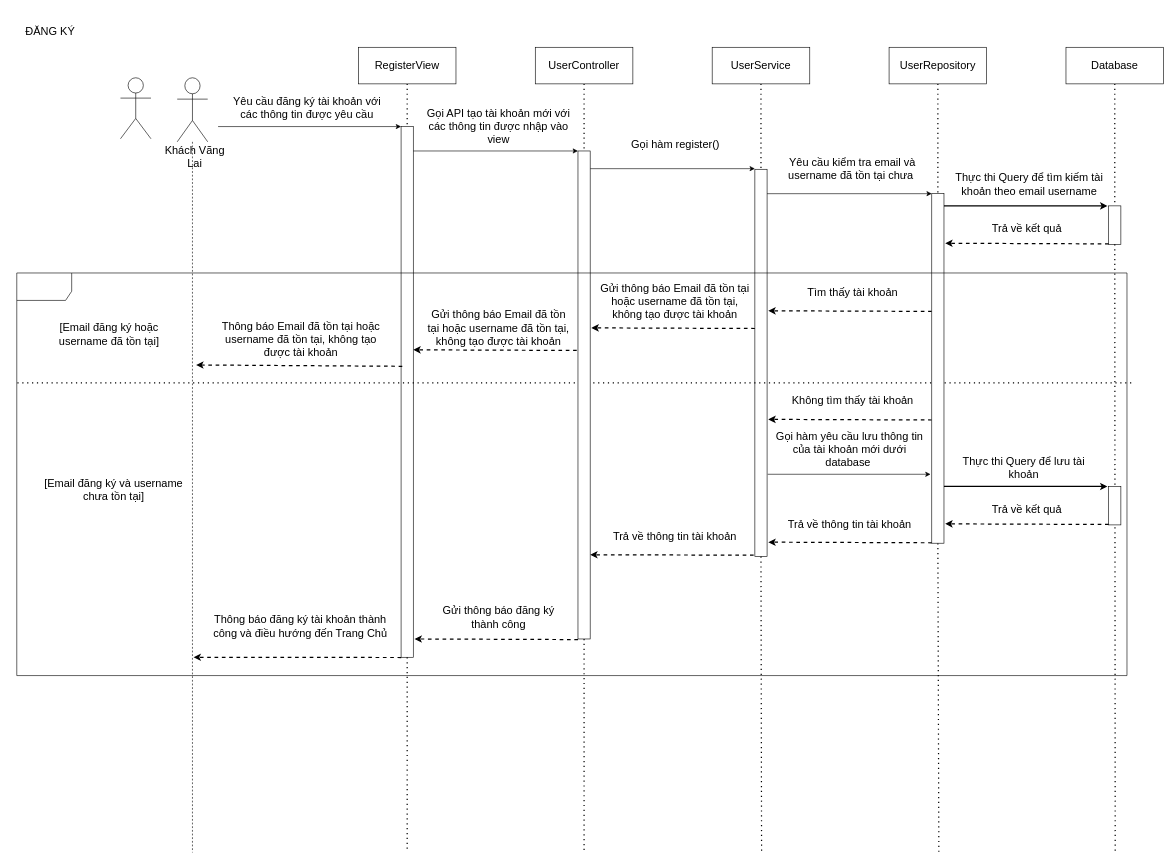
Some shapes in this 1174 by 865 pixel diagram are drawn without their labels. The shapes that lost their labels are listed below. From the top down, each one's centre as x and y in pixels, then its label:
pixel 135 108: Quản Trị Viên
pixel 571 474: exception
